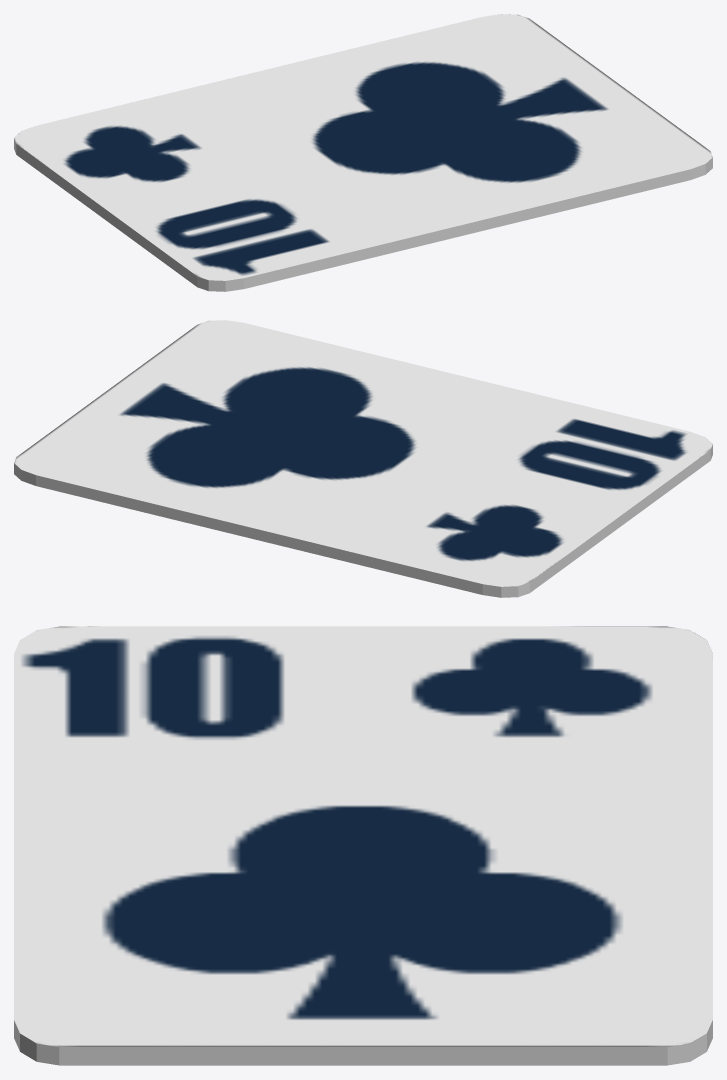
File: 10Card.fbx
The picture shows the model from 3 angles, top to bottom: view 1: azimuth 30°, elevation 25°; view 2: azimuth 150°, elevation 25°; view 3: azimuth 270°, elevation 25°; orthographic projection. The views are drawn at different scales.
Parts seen in each view (by area): view 1: CardTen; view 2: CardTen; view 3: CardTen.
Boxes of the visible parts, left/top/right/bottom form: CardTen: left=14, top=14, right=712, bottom=291; CardTen: left=14, top=320, right=712, bottom=597; CardTen: left=14, top=626, right=712, bottom=1065.
Size of the model in its own units: 109 by 2.22 by 76.51.
Materials: 2 (1 with a texture image).
